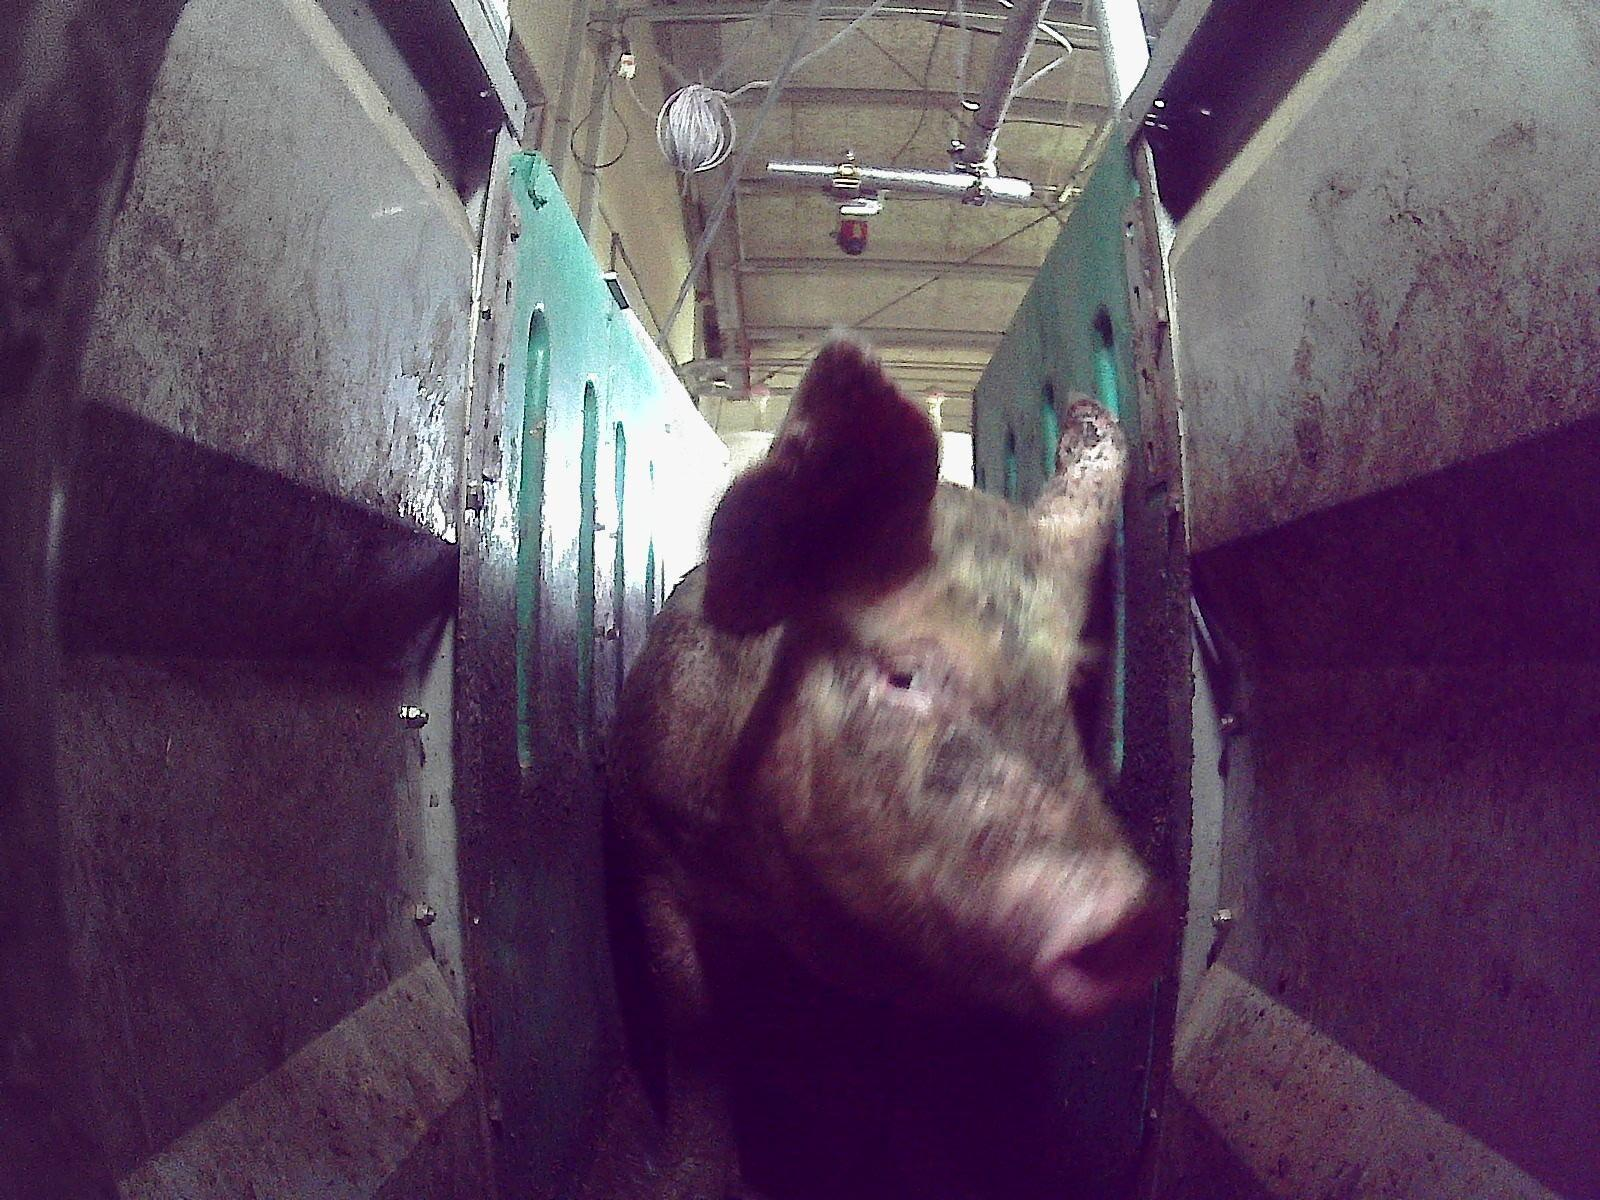Face: (721, 482, 1175, 1027)
